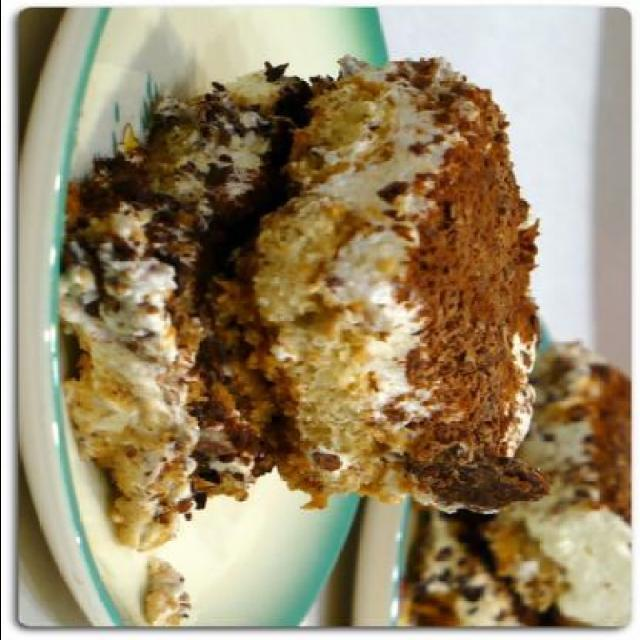Tiramisu: (65, 68, 543, 504), (405, 372, 623, 640)
